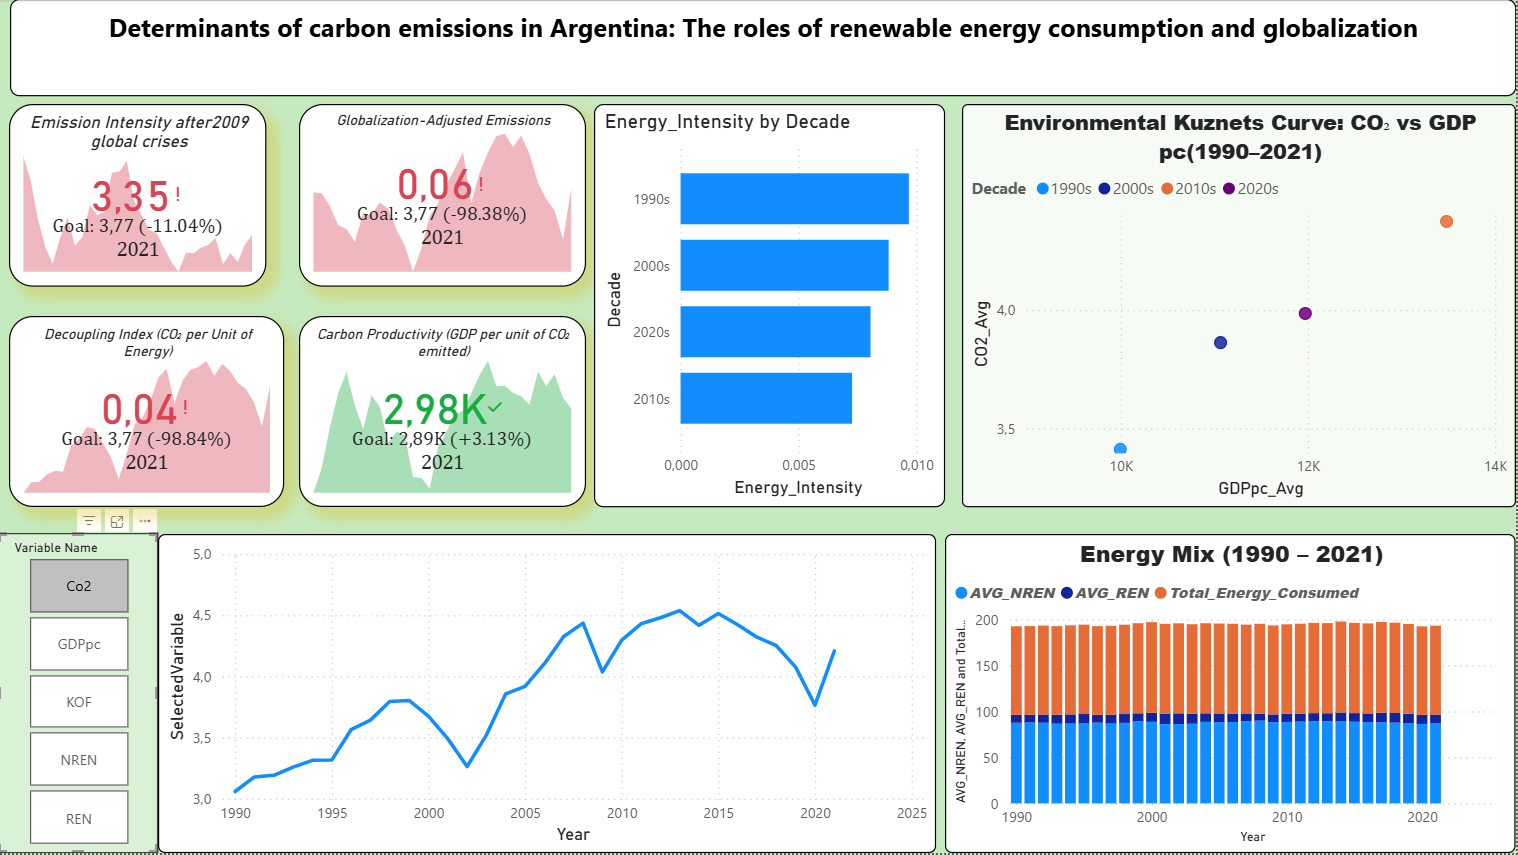

The dashboard page shown, as its layout file describes it:
{"tool":"powerbi","page":{"name":"Page 1","canvas":[1280,720],"ordinal":0},"visuals":[{"type":"textbox","box":[9.7,0,1270.3,81.7],"z":0},{"type":"slicer","fields":{"Values":["DimVariable.Variable Name"]},"box":[0,450.2,134.6,270],"z":1000},{"type":"lineChart","fields":{"Category":["DimYear.Year"],"Y":["Co2_Determinants.SelectedVariable"]},"box":[134.6,451.1,616.7,269.1],"z":2000},{"type":"lineStackedColumnComboChart","title":"Energy Mix (1990 – 2021)","fields":{"Category":["DimYear.Year"],"Y":["Co2_Determinants.AVG_NREN","Co2_Determinants.AVG_REN","Co2_Determinants.Total_Energy_Consumed"]},"box":[798.7,450.2,481.3,269.1],"z":3000},{"type":"kpi","title":"Emission Intensity after2009 global crises","fields":{"TrendLine":["DimYear.Year"],"Goal":["Co2_Determinants.Target_CO2_per_GDP_10k"],"Indicator":["Co2_Determinants.Emission_intensity_10k"]},"box":[9.5,88.8,211.3,122.5],"z":4000},{"type":"kpi","title":"Decoupling Index (CO₂ per Unit of Energy)","fields":{"TrendLine":["DimYear.Year"],"Goal":["Co2_Determinants.Target_CO2_per_GDP_10k"],"Indicator":["Co2_Determinants.CO2_per_Energy"]},"box":[9.5,267.4,211.3,116.4],"z":5000},{"type":"kpi","title":"Globalization-Adjusted Emissions","fields":{"TrendLine":["DimYear.Year"],"Goal":["Co2_Determinants.Target_CO2_per_GDP_10k"],"Indicator":["Co2_Determinants.CO2_Globalization_Adjusted"]},"box":[241.5,88.8,201.8,122.5],"z":6000},{"type":"kpi","title":"Carbon Productivity (GDP per unit of CO₂ emitted)","fields":{"TrendLine":["DimYear.Year"],"Indicator":["Co2_Determinants.Carbon_Productivity"],"Goal":["Co2_Determinants.Target_Carbon_Productivity"]},"box":[230.3,271.7,213,107.8],"z":6001},{"type":"scatterChart","title":"Environmental Kuznets Curve: CO₂ vs GDP pc(1990–2021)","fields":{"X":["Co2_Determinants.GDPpc_Avg"],"Y":["Co2_Determinants.CO2_Avg"],"Series":["Co2_Determinants.Decade"],"Size":["Co2_Determinants.AVG_REN"]},"box":[486.5,88.8,593.4,342.4],"z":6002}]}

Visuals, with their boxes in screenshot pixels (x1, y1, x2, y2):
textbox: select_region(19, 0, 1505, 96)
slicer - DimVariable.Variable Name: select_region(8, 527, 165, 842)
lineChart - DimYear.Year x Co2_Determinants.SelectedVariable: select_region(165, 528, 887, 842)
"Energy Mix (1990 – 2021)" lineStackedColumnComboChart: select_region(942, 527, 1505, 841)
"Emission Intensity after2009 global crises" kpi: select_region(19, 104, 266, 247)
"Decoupling Index (CO₂ per Unit of Energy)" kpi: select_region(19, 313, 266, 449)
"Globalization-Adjusted Emissions" kpi: select_region(290, 104, 526, 247)
"Carbon Productivity (GDP per unit of CO₂ emitted)" kpi: select_region(277, 318, 526, 444)
"Environmental Kuznets Curve: CO₂ vs GDP pc(1990–2021)" scatterChart: select_region(577, 104, 1271, 504)
